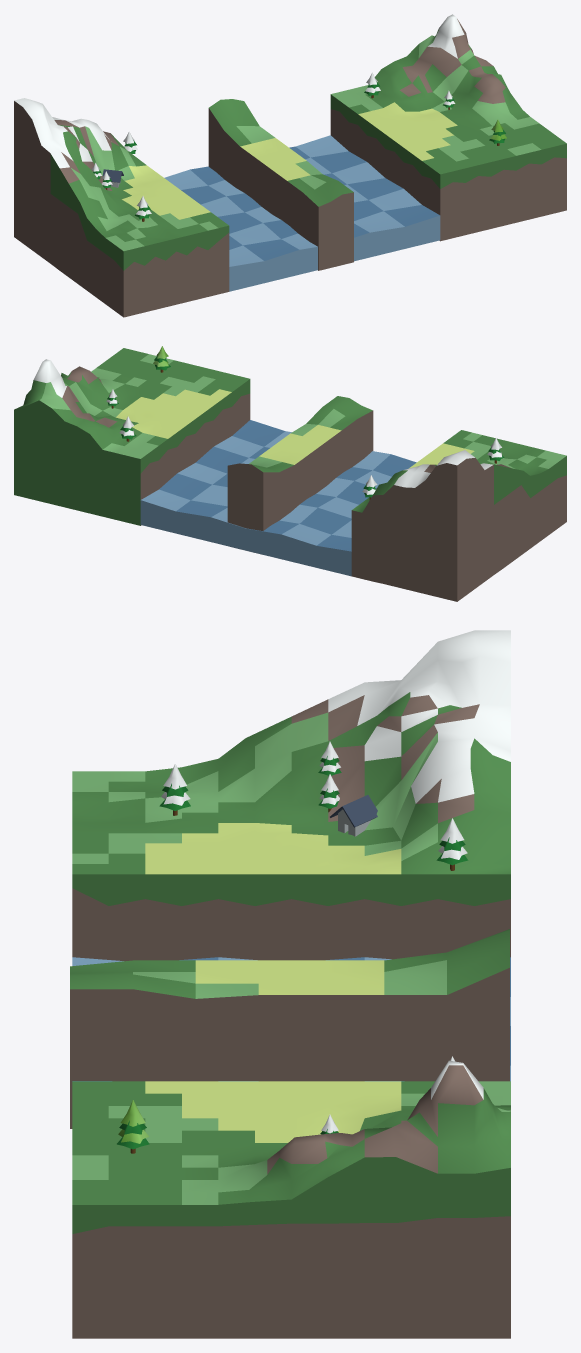
Rendered from TutorialLevel4Terrain.fbx.
3 renders of one model, top to bottom at view 1: azimuth 30°, elevation 25°; view 2: azimuth 150°, elevation 25°; view 3: azimuth 270°, elevation 25°, orthographic. The views are drawn at different scales.
Visible parts, largest first — view 1: Box061, Box059, Box060, Box062; view 2: Box061, Box059, Box060, Box062; view 3: Box061, Box059, Box062, Box068, Cone019, Box060, Cone016, Cone015.
Part boxes in pixels (left/top/right/bottom): Box061: left=330, top=14, right=566, bottom=241; Box059: left=14, top=98, right=229, bottom=317; Box060: left=164, top=135, right=440, bottom=291; Box062: left=208, top=99, right=353, bottom=270; Box061: left=14, top=348, right=250, bottom=525; Box059: left=351, top=430, right=566, bottom=601; Box060: left=140, top=420, right=416, bottom=576; Box062: left=227, top=396, right=373, bottom=552; Box061: left=72, top=1060, right=510, bottom=1338; Box059: left=72, top=630, right=510, bottom=961; Box062: left=70, top=929, right=509, bottom=1128; Box068: left=330, top=795, right=377, bottom=836; Cone019: left=117, top=1100, right=149, bottom=1153; Box060: left=72, top=957, right=510, bottom=1081; Cone016: left=436, top=818, right=468, bottom=870; Cone015: left=159, top=764, right=190, bottom=815.
Bounding box in the file's own units: 840 × 252 × 362.
13 materials, 13 textured.
